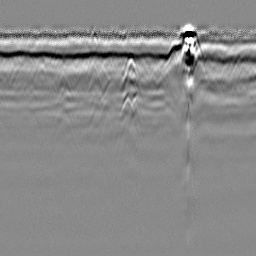cavity: (119, 53, 140, 96)
